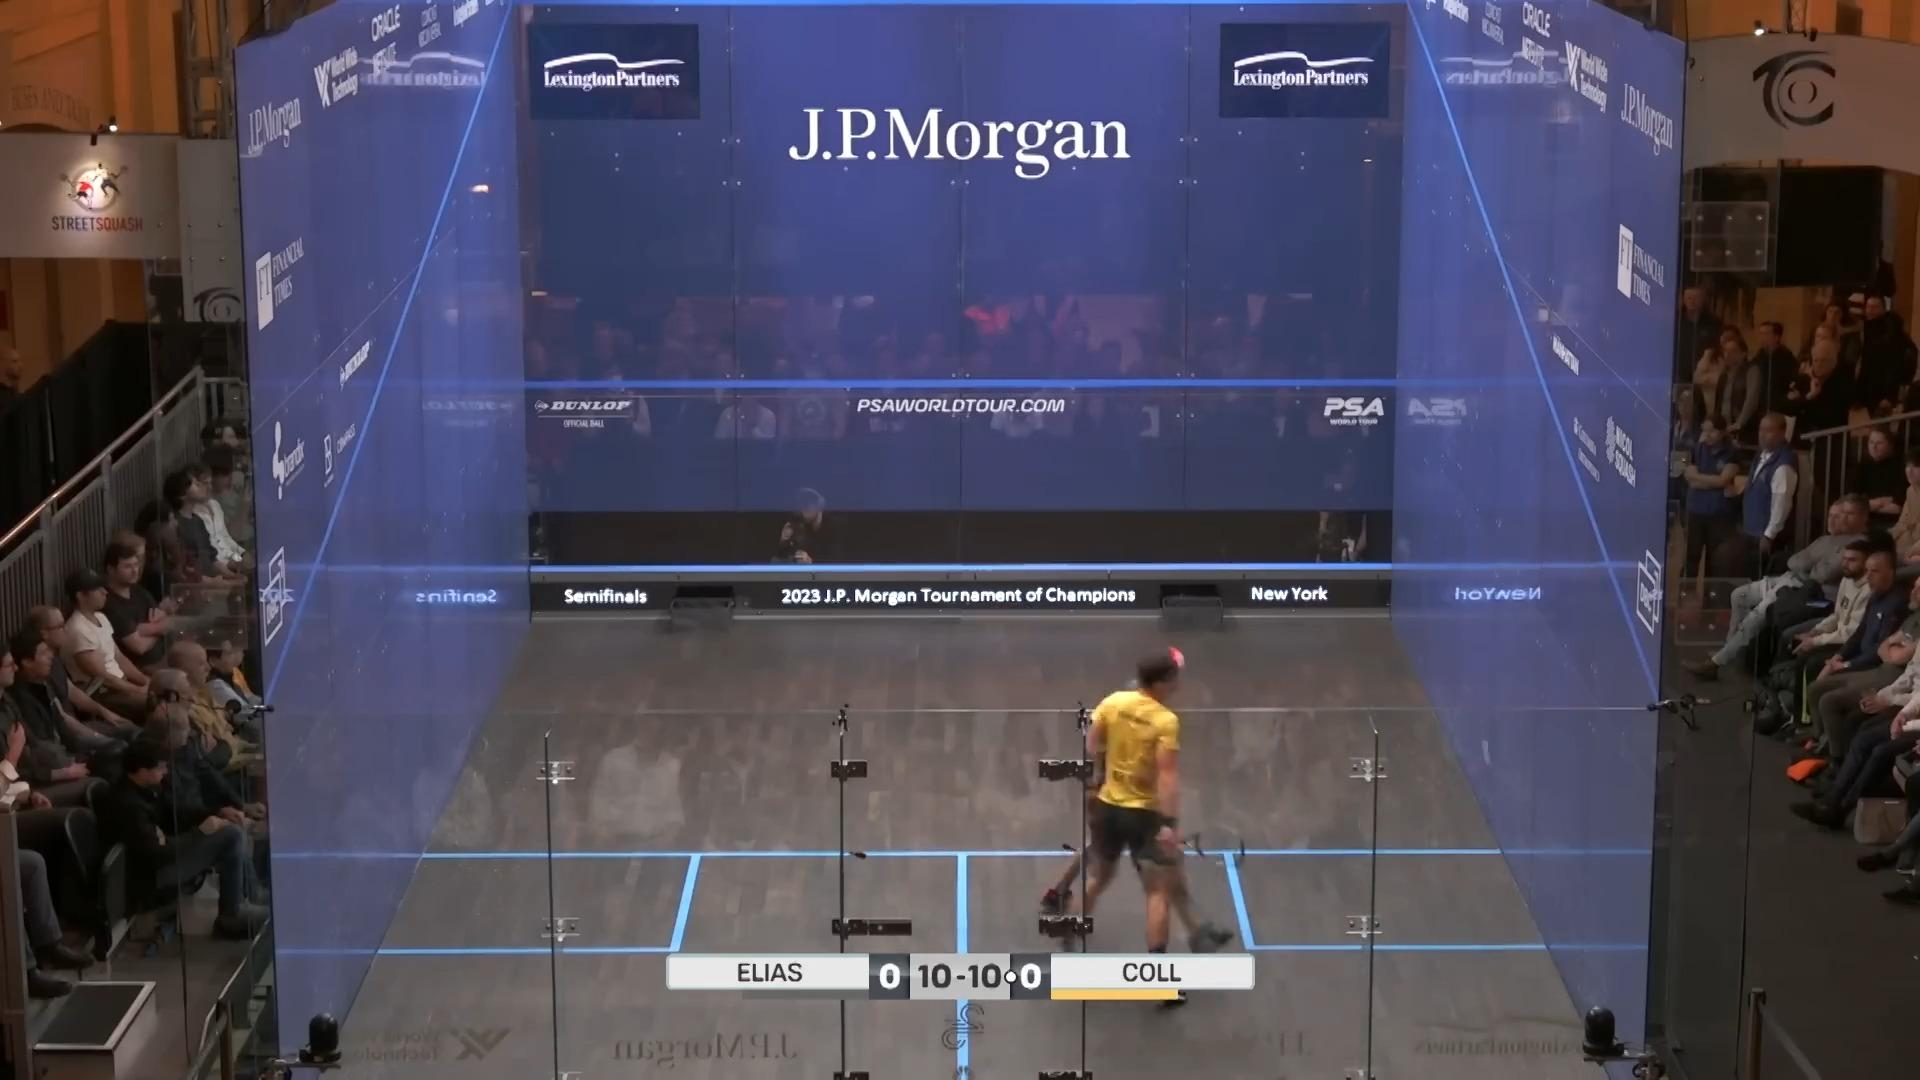Racket: (1174, 814, 1257, 872)
